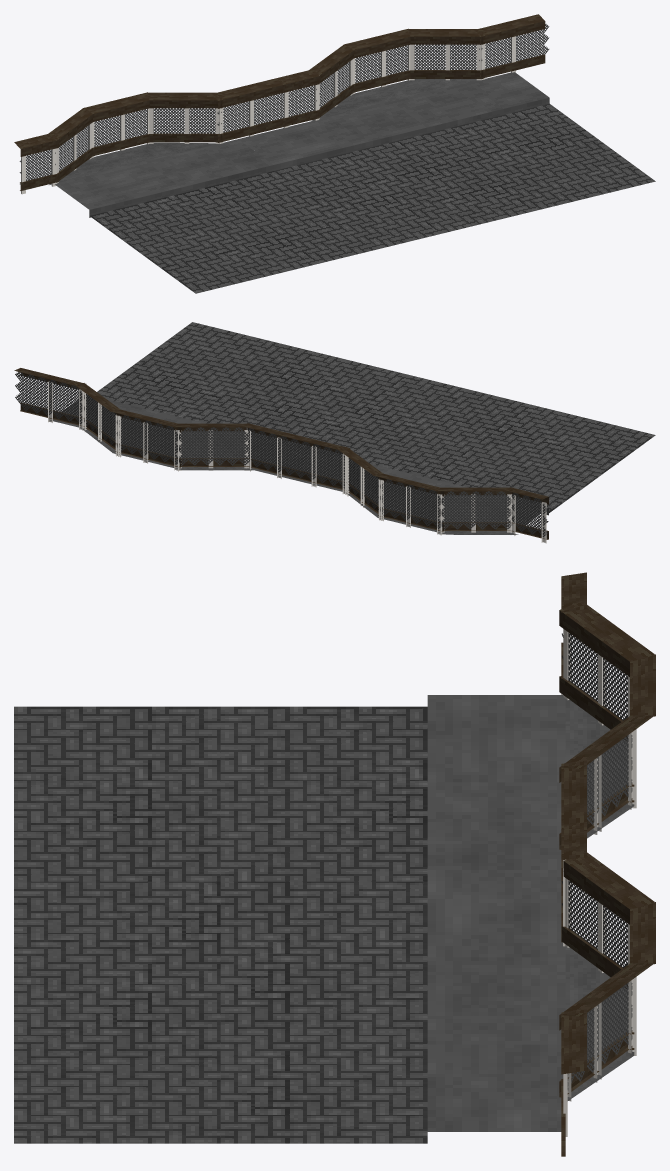
The model's file is bridge.gltf.
3 views of the same model, one above another, from view 1: azimuth 30°, elevation 25°; view 2: azimuth 150°, elevation 25°; view 3: azimuth 270°, elevation 25° (orthographic). The views are drawn at different scales.
Visible parts, largest first — view 1: footpath, railing, sidewalk; view 2: footpath, railing, sidewalk; view 3: footpath, sidewalk, railing.
Boxes of the visible parts, left/top/right/bottom form: footpath: left=90, top=103, right=655, bottom=293; railing: left=14, top=14, right=549, bottom=194; sidewalk: left=49, top=72, right=549, bottom=217; footpath: left=97, top=322, right=655, bottom=512; railing: left=14, top=368, right=548, bottom=543; sidewalk: left=50, top=395, right=548, bottom=534; footpath: left=14, top=706, right=427, bottom=1143; sidewalk: left=427, top=695, right=634, bottom=1131; railing: left=559, top=572, right=655, bottom=1156.
Size of the model in its own units: 17.27 by 1.69 by 9.31.
3 materials, 3 textured.
